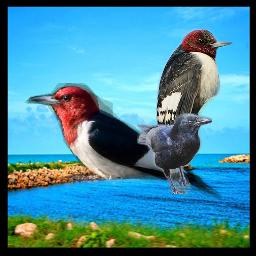Crow: (137, 113, 212, 194)
Woodpecker: (24, 83, 221, 201), (156, 29, 234, 170)
